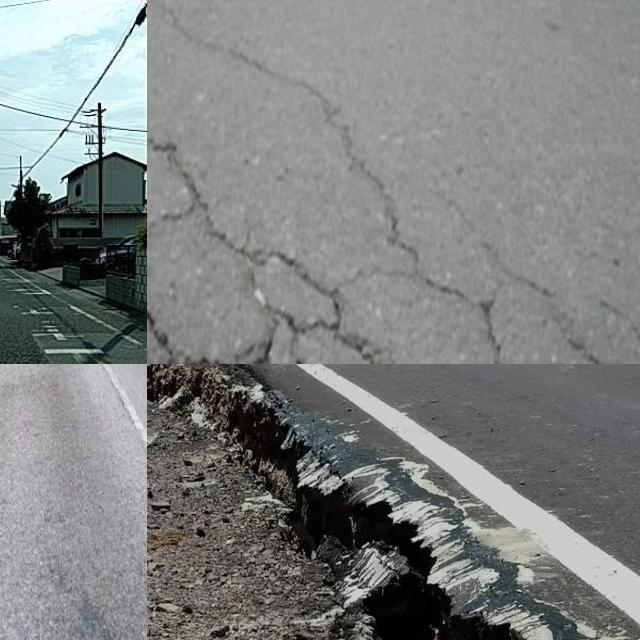Pinggir: (158, 364, 640, 640), (147, 156, 390, 364)
